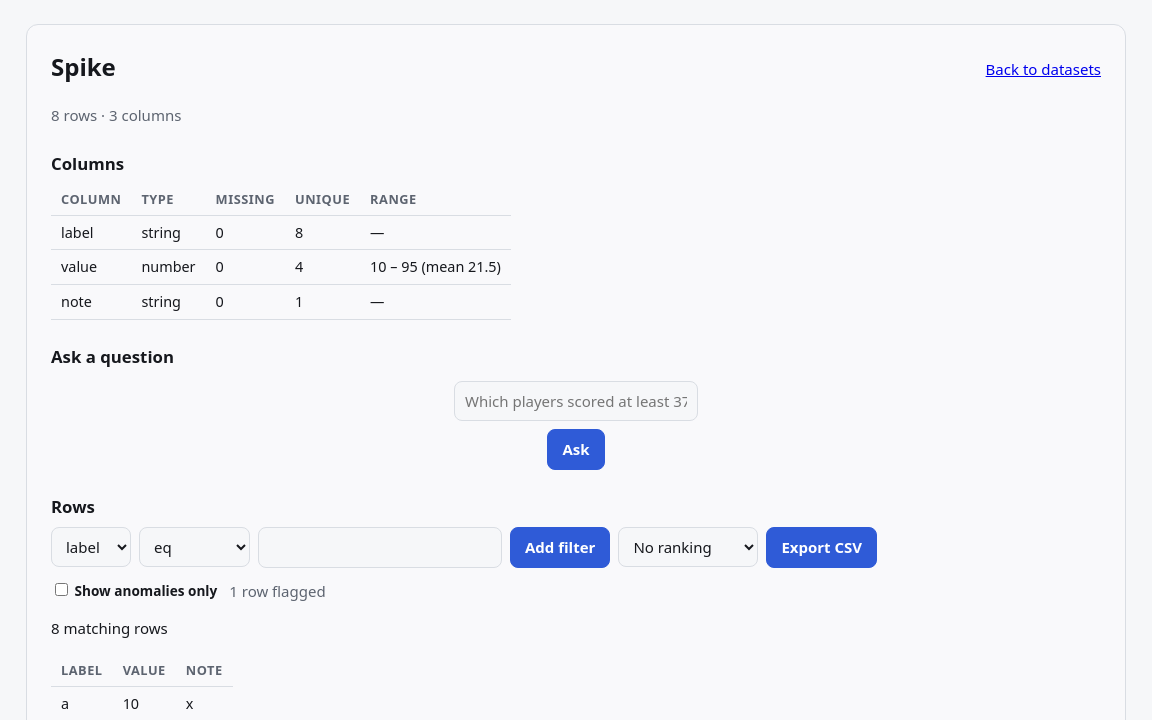
Test: filter builder › adds a value-less operator without a value, and removing the chip restores all rows
The width and height of the screenshot is (1152, 720).
Expected: the text "8 matching rows" is shown, [51,618,168,638]
Select "label" in the dropdown with test id "filter-column" at point(91, 547), box [51,527,131,567]
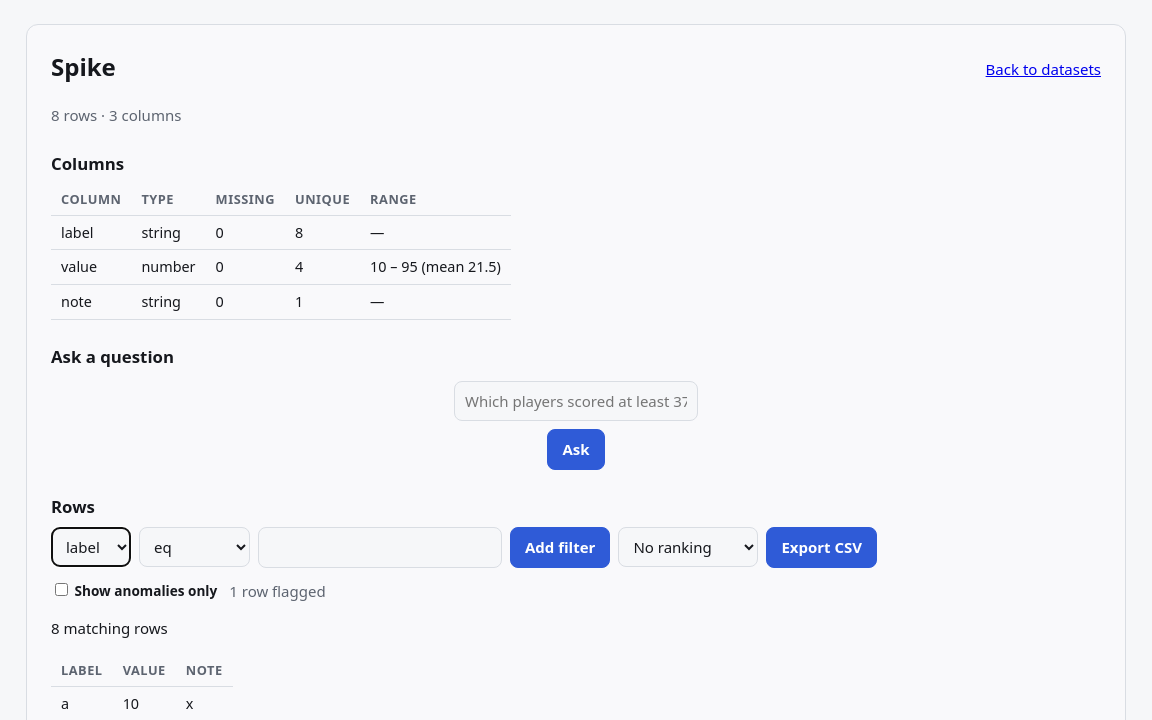
Select "empty" in the dropdown with test id "filter-operator" at point(194, 547), box [139,527,250,567]
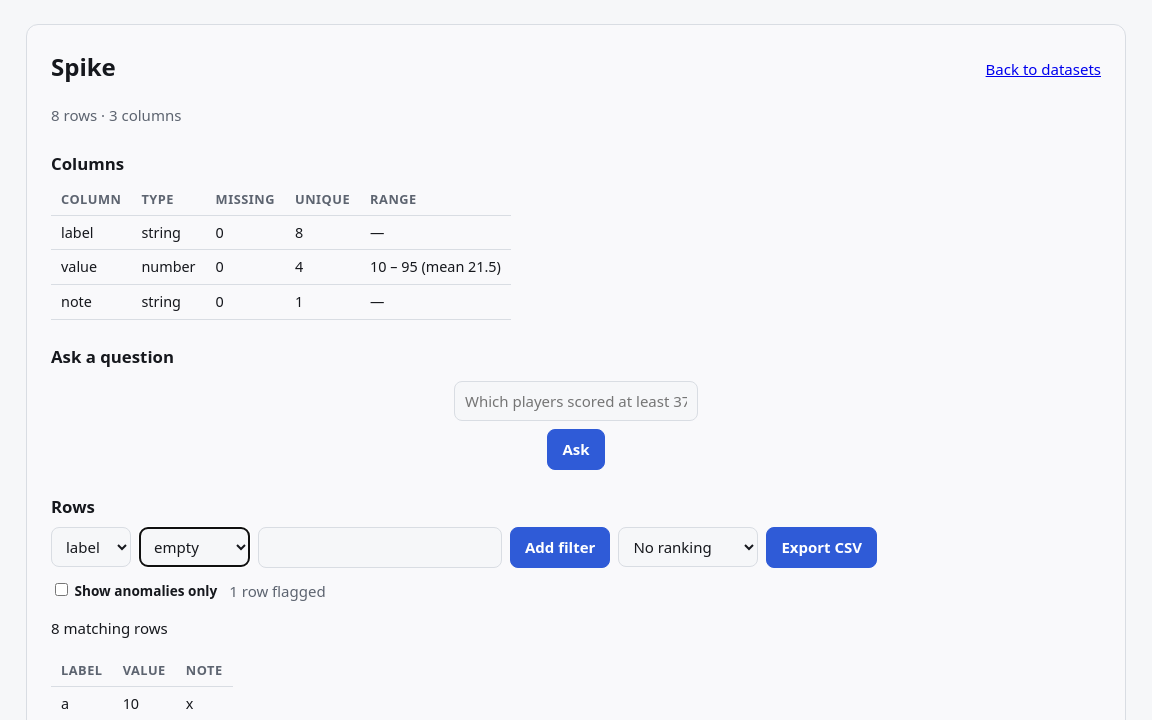
Click the button with test id "add-filter" at point(560, 547), box [510,527,610,568]
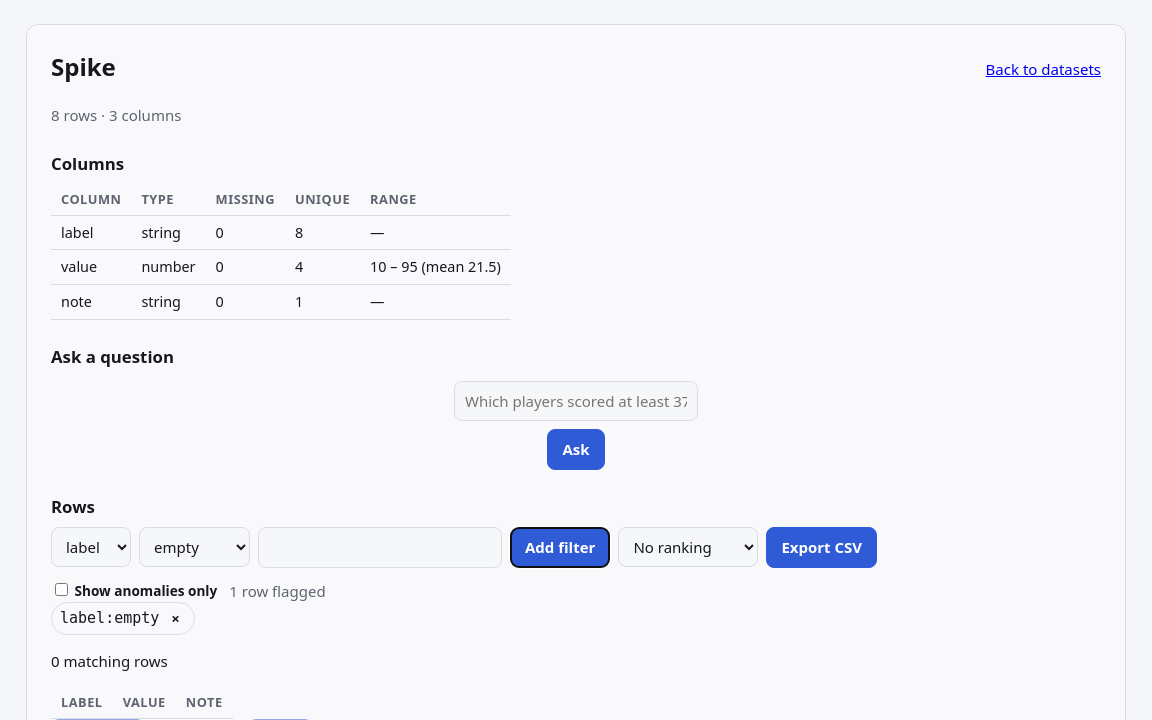
Result: the text "label:empty" is shown at [60,607,159,630]
Result: the text with test id "row-count" reads "0 matching rows" at [51,651,168,671]
Click the button named "Remove filter label:empty" at point(176, 618), box [165,607,186,630]
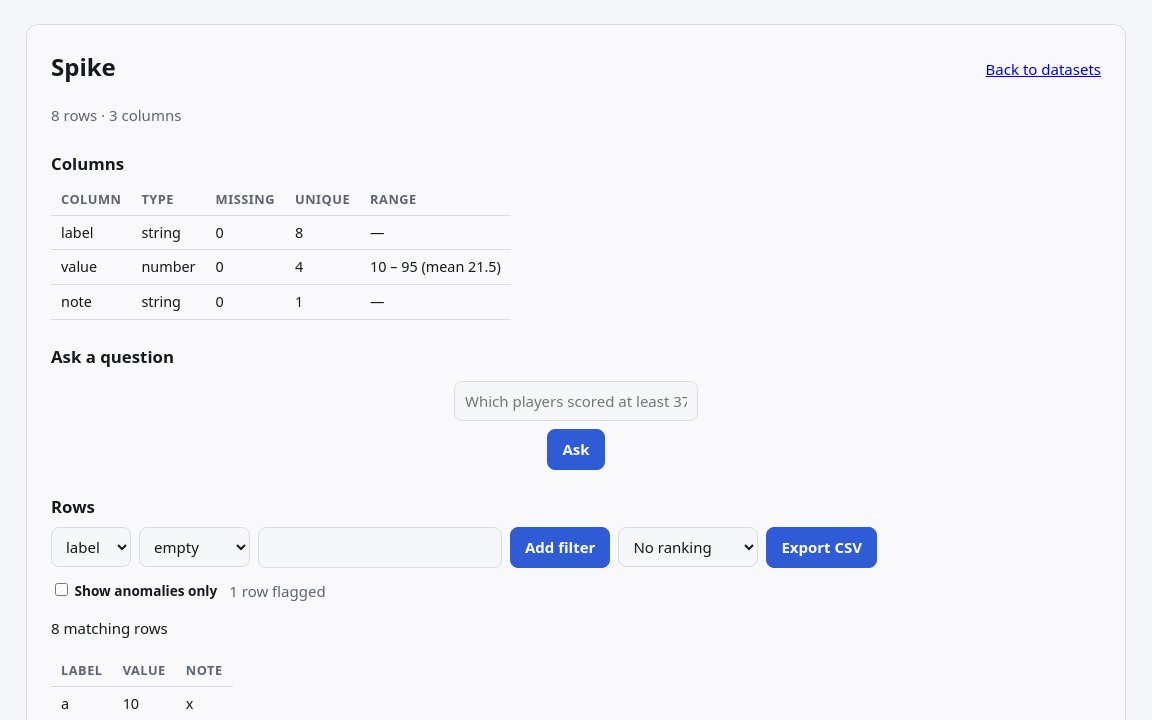
Result: the text with test id "row-count" reads "8 matching rows" at [51,618,168,638]
Result: the list with test id "active-filters" is gone
